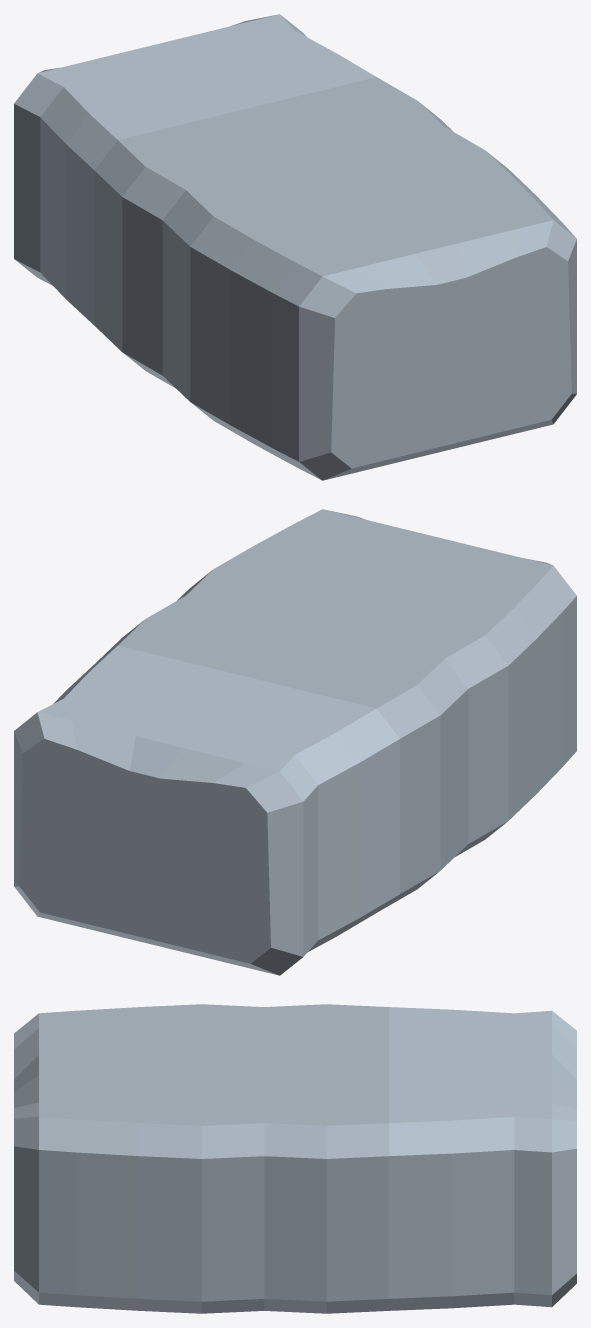
File: pillar_medium_a.glb
3 views of the same model, one above another, from view 1: azimuth 30°, elevation 25°; view 2: azimuth 150°, elevation 25°; view 3: azimuth 270°, elevation 25° (orthographic). The views are drawn at different scales.
Visible parts, largest first — view 1: pillar_medium_a; view 2: pillar_medium_a; view 3: pillar_medium_a.
Boxes of the visible parts, x1=… form: pillar_medium_a: x1=14, y1=14, x2=576, y2=480; pillar_medium_a: x1=14, y1=509, x2=576, y2=975; pillar_medium_a: x1=14, y1=1004, x2=576, y2=1313.
Size of the model in its own units: 3.6 by 2.21 by 6.
